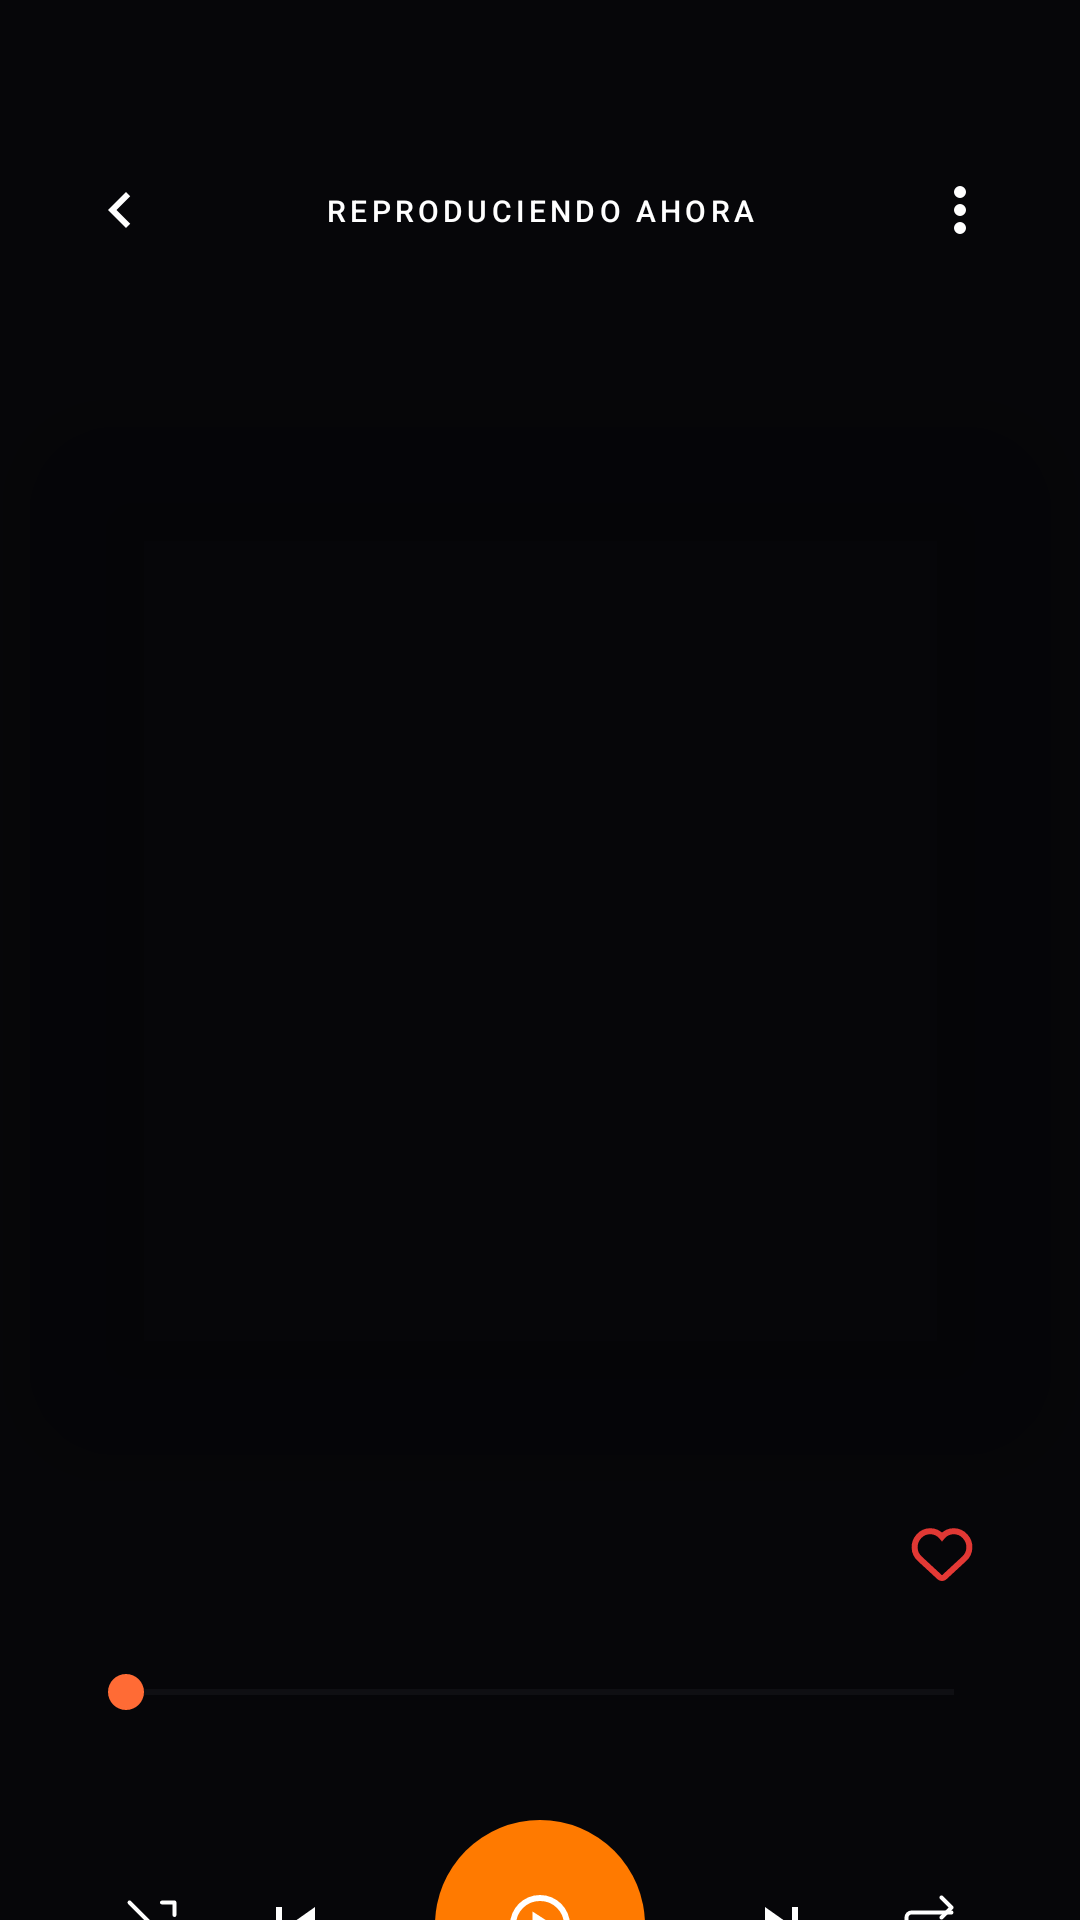

Where to tap for icons on this 1080px×1920px app screen, as point (x, y):
fav off: point (942, 1554)
Opciones: point (960, 210)
Volver: point (119, 210)
